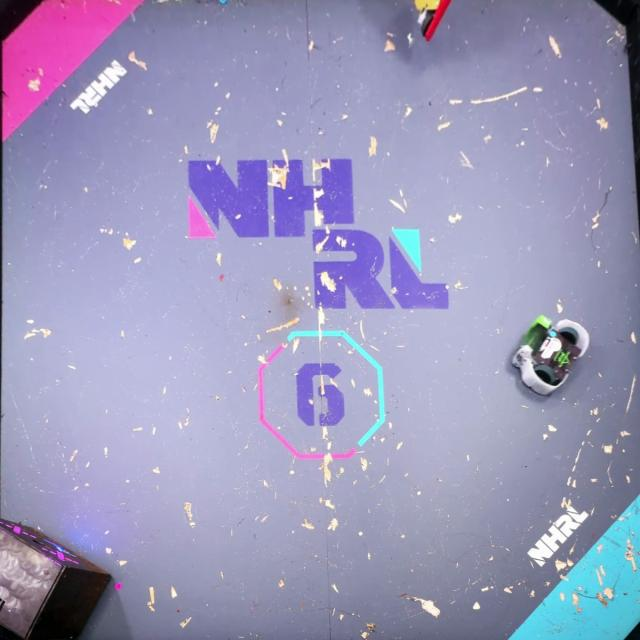housebot: (0, 516, 113, 640)
robot: (510, 314, 590, 396)
